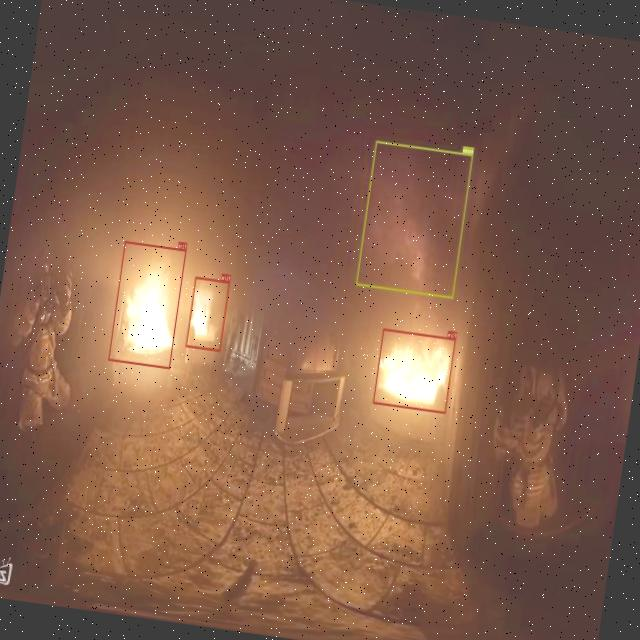fire: (108, 241, 186, 369), (373, 328, 457, 414), (186, 276, 231, 352)
smoke: (356, 140, 474, 298)
